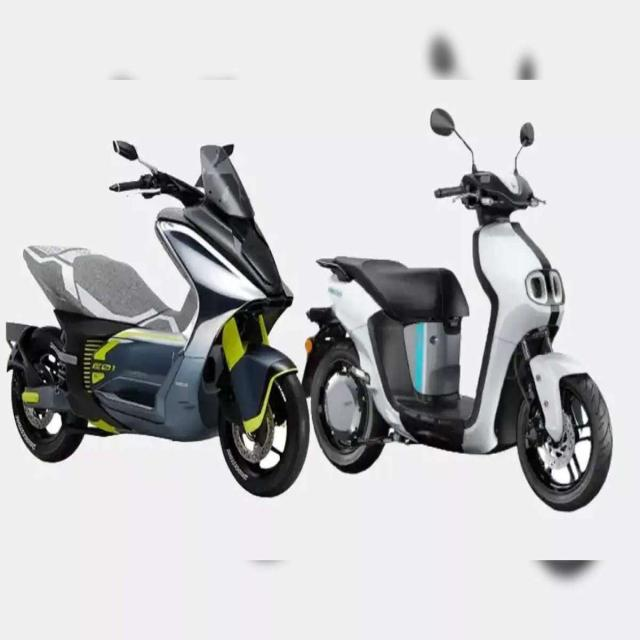motorcycle: (302, 107, 611, 510), (8, 140, 309, 495)
